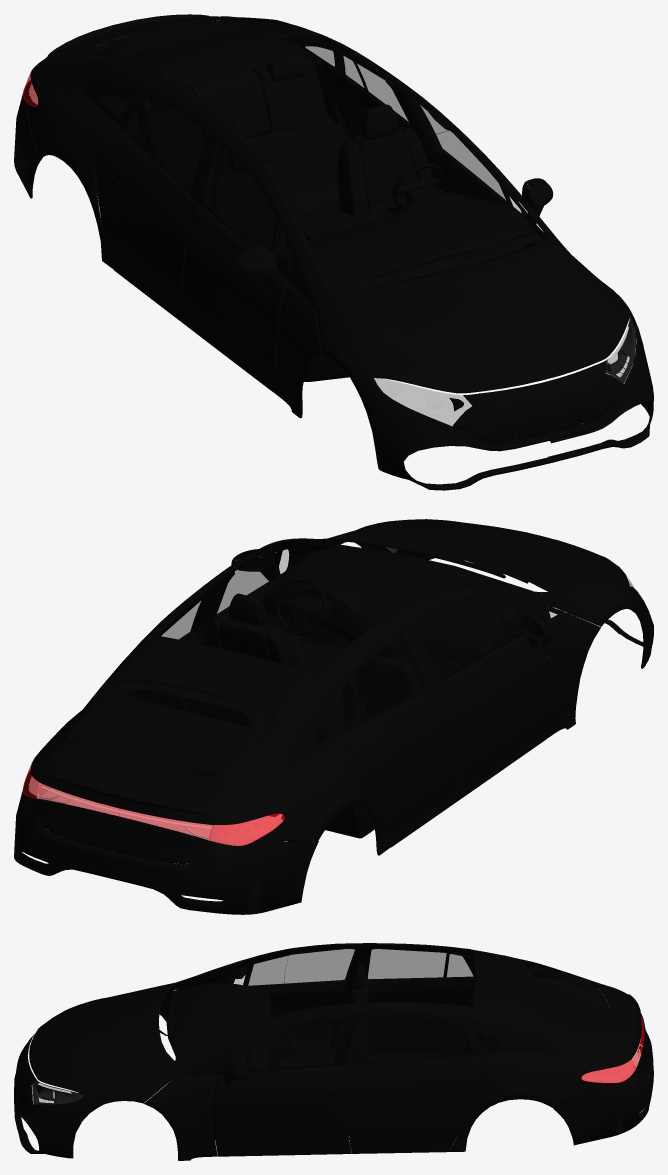
3 renders of one model, top to bottom at view 1: azimuth 30°, elevation 25°; view 2: azimuth 150°, elevation 25°; view 3: azimuth 270°, elevation 25°, orthographic. The views are drawn at different scales.
Parts seen in each view (by area): view 1: Plane.002, BUMPER.001, Plane.004, BUMPER.004, Plane.001, headlight.002, HEADLIGHT, whipper.003, grill.001, front headlight.003; view 2: Plane.002, Plane.004, BUMPER.004, BUMPER.001, whipper.003, steer.001, steer, in light.004; view 3: Plane.002, Plane.004, BUMPER.004, BUMPER.001, Plane.001, front headlight.003, steer.002, grill.001.
Part boxes in pixels (<box>): Plane.002: <box>14,14,653,490</box>; BUMPER.001: <box>125,54,428,283</box>; Plane.004: <box>90,17,545,381</box>; BUMPER.004: <box>276,192,542,289</box>; Plane.001: <box>374,316,636,426</box>; headlight.002: <box>463,361,605,405</box>; HEADLIGHT: <box>383,318,629,419</box>; whipper.003: <box>372,227,539,286</box>; grill.001: <box>548,394,653,458</box>; front headlight.003: <box>605,315,635,383</box>; Plane.002: <box>14,519,653,914</box>; Plane.004: <box>69,541,545,838</box>; BUMPER.004: <box>264,545,550,725</box>; BUMPER.001: <box>124,593,420,742</box>; whipper.003: <box>328,536,528,583</box>; steer.001: <box>277,599,322,631</box>; steer: <box>275,577,326,635</box>; in light.004: <box>29,777,281,841</box>; Plane.002: <box>14,943,653,1160</box>; Plane.004: <box>178,945,606,1139</box>; BUMPER.004: <box>166,983,288,1076</box>; BUMPER.001: <box>284,961,499,1066</box>; Plane.001: <box>31,1081,83,1103</box>; front headlight.003: <box>32,1081,84,1104</box>; steer.002: <box>269,1036,291,1064</box>; grill.001: <box>14,1096,46,1152</box>.
Bounding box in the file's own units: 1.53 × 0.9091 × 3.69.
